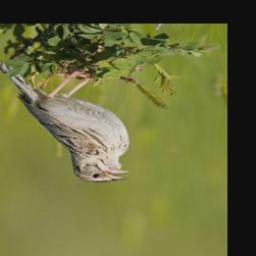Sparrow: (0, 54, 124, 183)
